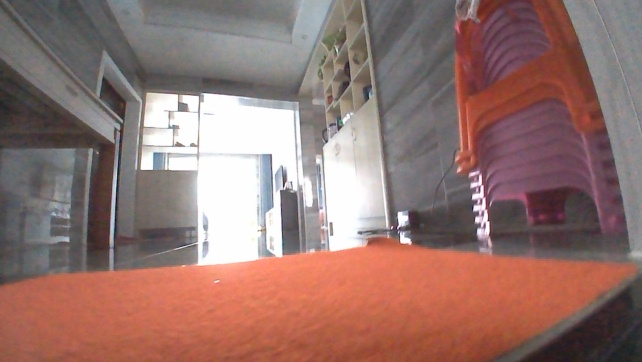blanket: (0, 232, 639, 361)
wire: (430, 146, 456, 213)
